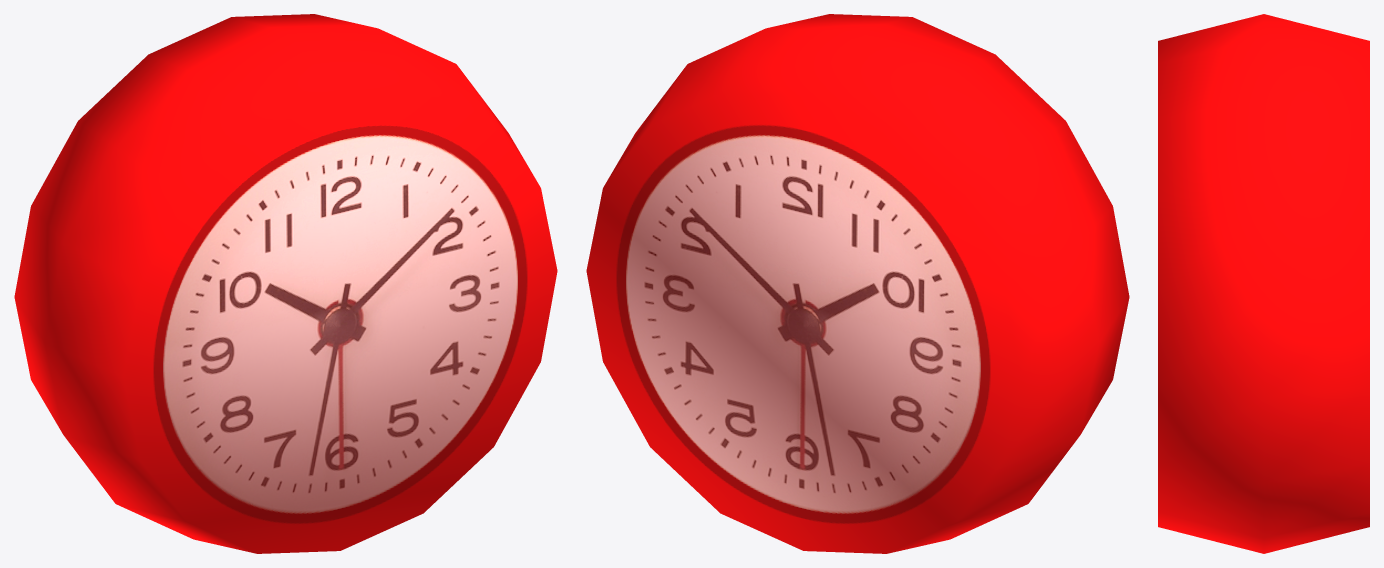
The model's file is red_watch.glb.
3 views of the same model, side by side, from view 1: azimuth 30°, elevation 25°; view 2: azimuth 150°, elevation 25°; view 3: azimuth 270°, elevation 25° (orthographic). The views are drawn at different scales.
Parts seen in each view (by area): view 1: Red_Watch; view 2: Red_Watch; view 3: Red_Watch.
Part boxes in pixels (box(x1,y1,x2,y2)): Red_Watch: box(14, 14, 557, 553); Red_Watch: box(586, 14, 1129, 553); Red_Watch: box(1158, 14, 1369, 553).
Size of the model in its own units: 0.5012 by 0.5012 by 0.1963.
1 material, 1 textured.
